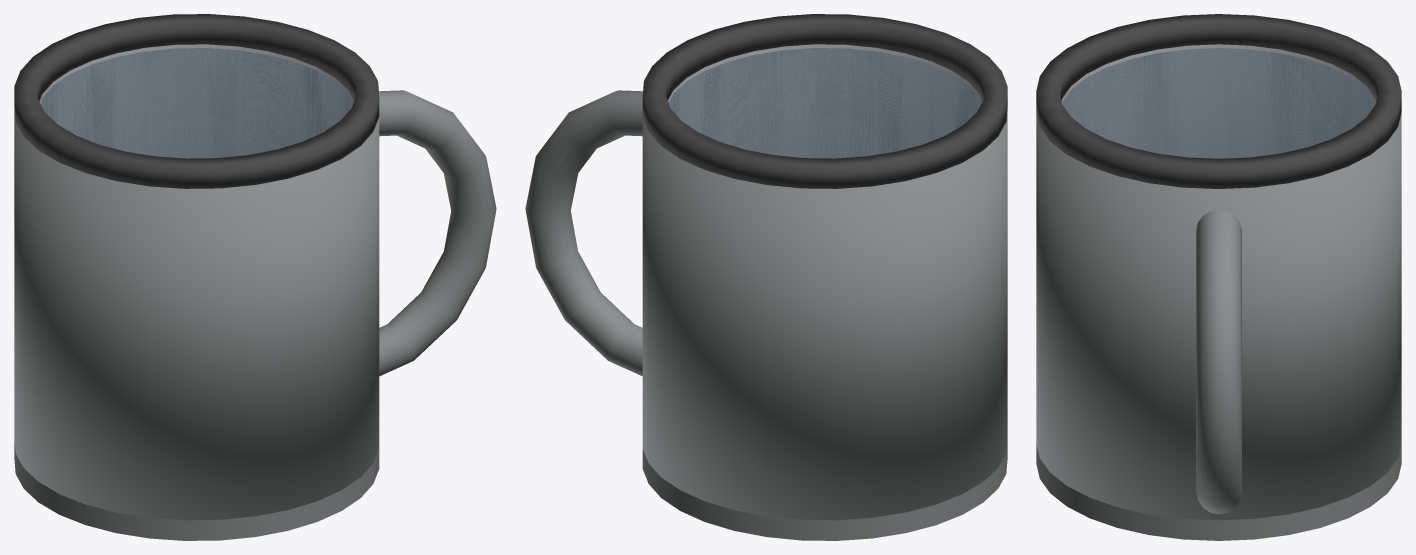
The model's file is coffee mug alex.obj.
3 renders of one model, left to right at view 1: azimuth 30°, elevation 25°; view 2: azimuth 150°, elevation 25°; view 3: azimuth 270°, elevation 25°, orthographic.
Parts seen in each view (by area): view 1: OBJ GROUND_FLOOR CERAMIC_-_PORCELAIN SMOOTH_PART, OBJ GROUND_FLOOR GLASS_-_BLUE FLAT_PART, OBJ GROUND_FLOOR METAL_-_STAINLESS_STEEL SMOOTH_PART, OBJ GROUND_FLOOR GLASS_-_BLUE SMOOTH_PART; view 2: OBJ GROUND_FLOOR CERAMIC_-_PORCELAIN SMOOTH_PART, OBJ GROUND_FLOOR GLASS_-_BLUE FLAT_PART, OBJ GROUND_FLOOR METAL_-_STAINLESS_STEEL SMOOTH_PART, OBJ GROUND_FLOOR GLASS_-_BLUE SMOOTH_PART; view 3: OBJ GROUND_FLOOR CERAMIC_-_PORCELAIN SMOOTH_PART, OBJ GROUND_FLOOR GLASS_-_BLUE FLAT_PART, OBJ GROUND_FLOOR METAL_-_STAINLESS_STEEL SMOOTH_PART, OBJ GROUND_FLOOR GLASS_-_BLUE SMOOTH_PART.
Boxes of the visible parts, <box> form: OBJ GROUND_FLOOR CERAMIC_-_PORCELAIN SMOOTH_PART: <box>14,44,496,540</box>; OBJ GROUND_FLOOR GLASS_-_BLUE FLAT_PART: <box>40,48,353,158</box>; OBJ GROUND_FLOOR METAL_-_STAINLESS_STEEL SMOOTH_PART: <box>14,14,379,188</box>; OBJ GROUND_FLOOR GLASS_-_BLUE SMOOTH_PART: <box>44,49,348,157</box>; OBJ GROUND_FLOOR CERAMIC_-_PORCELAIN SMOOTH_PART: <box>525,44,1007,540</box>; OBJ GROUND_FLOOR GLASS_-_BLUE FLAT_PART: <box>668,48,981,158</box>; OBJ GROUND_FLOOR METAL_-_STAINLESS_STEEL SMOOTH_PART: <box>642,14,1007,188</box>; OBJ GROUND_FLOOR GLASS_-_BLUE SMOOTH_PART: <box>673,49,979,157</box>; OBJ GROUND_FLOOR CERAMIC_-_PORCELAIN SMOOTH_PART: <box>1036,44,1401,540</box>; OBJ GROUND_FLOOR GLASS_-_BLUE FLAT_PART: <box>1062,48,1375,158</box>; OBJ GROUND_FLOOR METAL_-_STAINLESS_STEEL SMOOTH_PART: <box>1036,14,1401,188</box>; OBJ GROUND_FLOOR GLASS_-_BLUE SMOOTH_PART: <box>1081,53,1348,153</box>.
Size of the model in its own units: 0.115 by 0.09 by 0.08.
